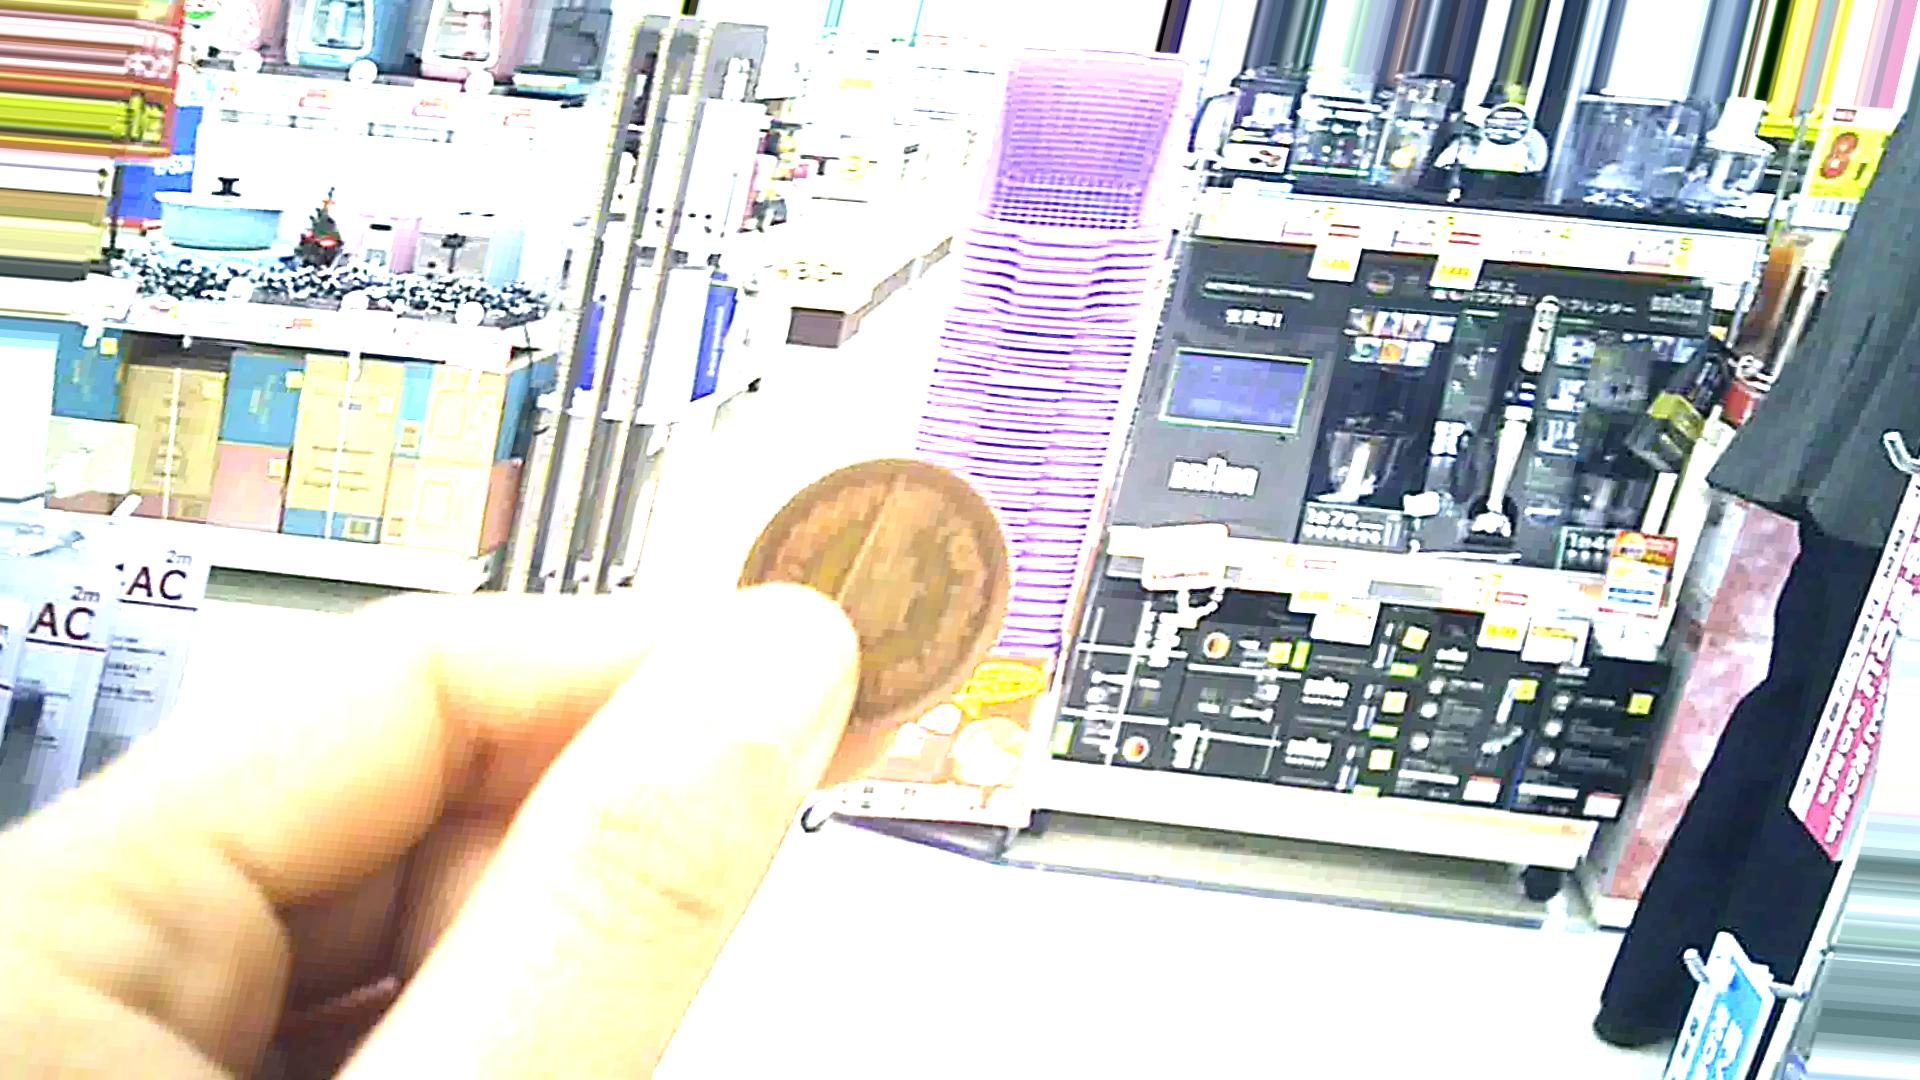10 Yen: (713, 442, 993, 738)
